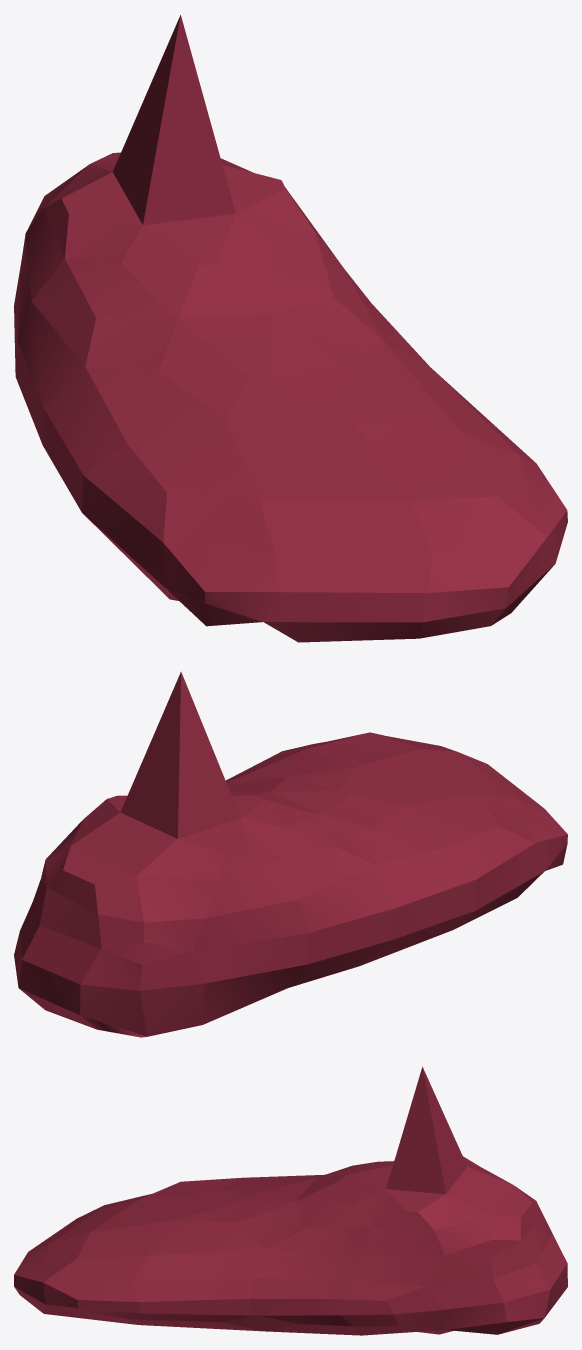
Rendered from right_foot.obj.
The picture shows the model from 3 angles, top to bottom: view 1: azimuth 30°, elevation 25°; view 2: azimuth 150°, elevation 25°; view 3: azimuth 270°, elevation 25°; orthographic projection. The views are drawn at different scales.
Visible parts, largest first — view 1: right_foot; view 2: right_foot; view 3: right_foot.
Part boxes in pixels (x1,y1,x2,y2): right_foot: [14, 15, 567, 642]; right_foot: [14, 671, 567, 1037]; right_foot: [14, 1066, 567, 1335].
Bounding box in the file's own units: 0.7889 × 0.7352 × 1.54.
